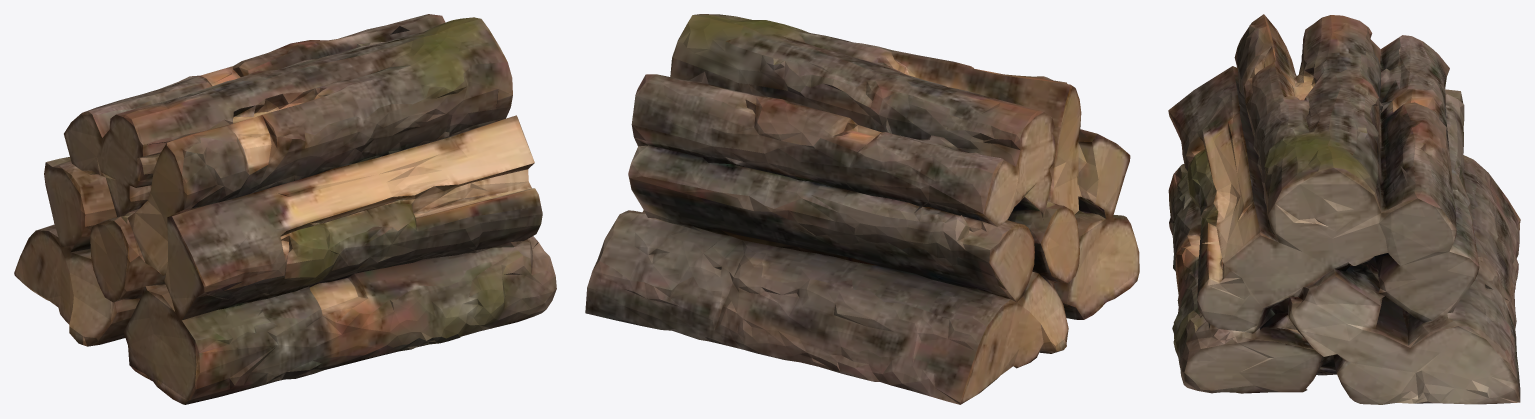
File: firewood.glb
3 views of the same model, side by side, from view 1: azimuth 30°, elevation 25°; view 2: azimuth 150°, elevation 25°; view 3: azimuth 270°, elevation 25° (orthographic). The views are drawn at different scales.
Visible parts, largest first — view 1: firewood; view 2: firewood; view 3: firewood.
Boxes of the visible parts, x1,y1,x2,y2 form: firewood: (14,14,556,404); firewood: (585,14,1139,404); firewood: (1168,14,1520,404).
Bounding box in the file's own units: 0.9896 × 0.5502 × 0.7619.
Materials: 1 (1 with a texture image).
